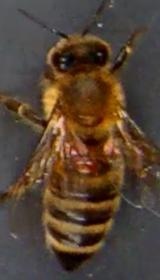varroa_mite: (71, 150, 101, 178)
